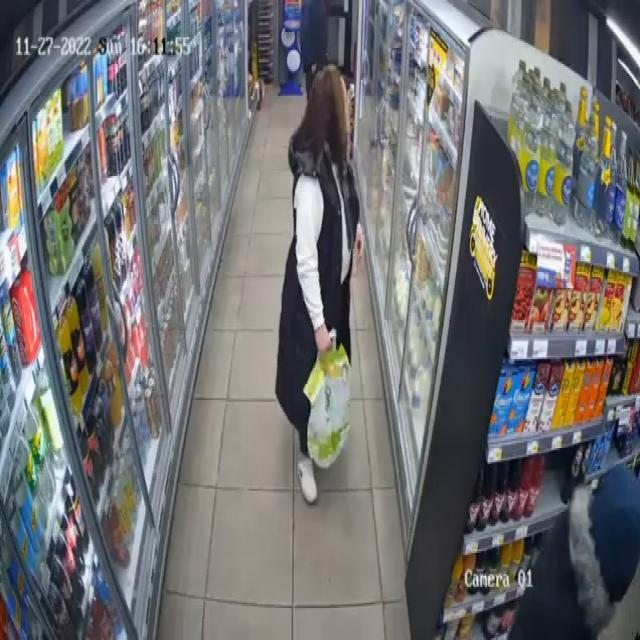bags: (304, 331, 349, 468)
hands: (316, 325, 331, 354), (355, 224, 363, 265)
person: (275, 66, 362, 503)
